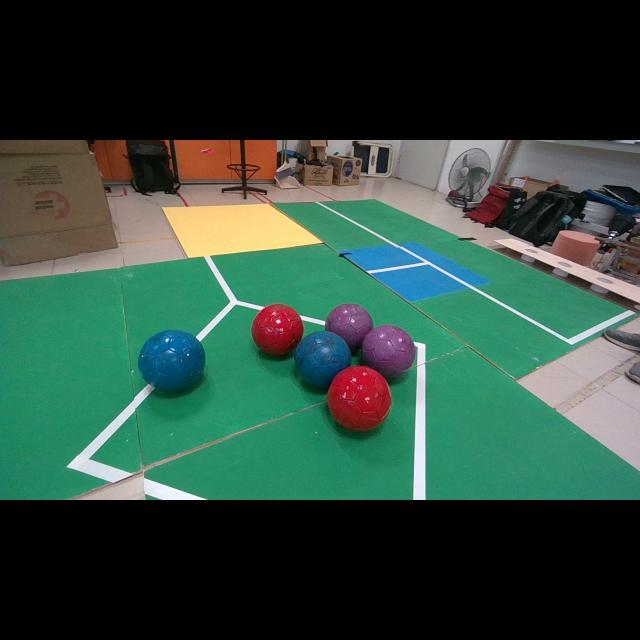B: (138, 330, 205, 391), (294, 331, 351, 388)
P: (362, 325, 415, 377), (325, 304, 374, 352)
R: (328, 365, 392, 431), (251, 304, 304, 355)
